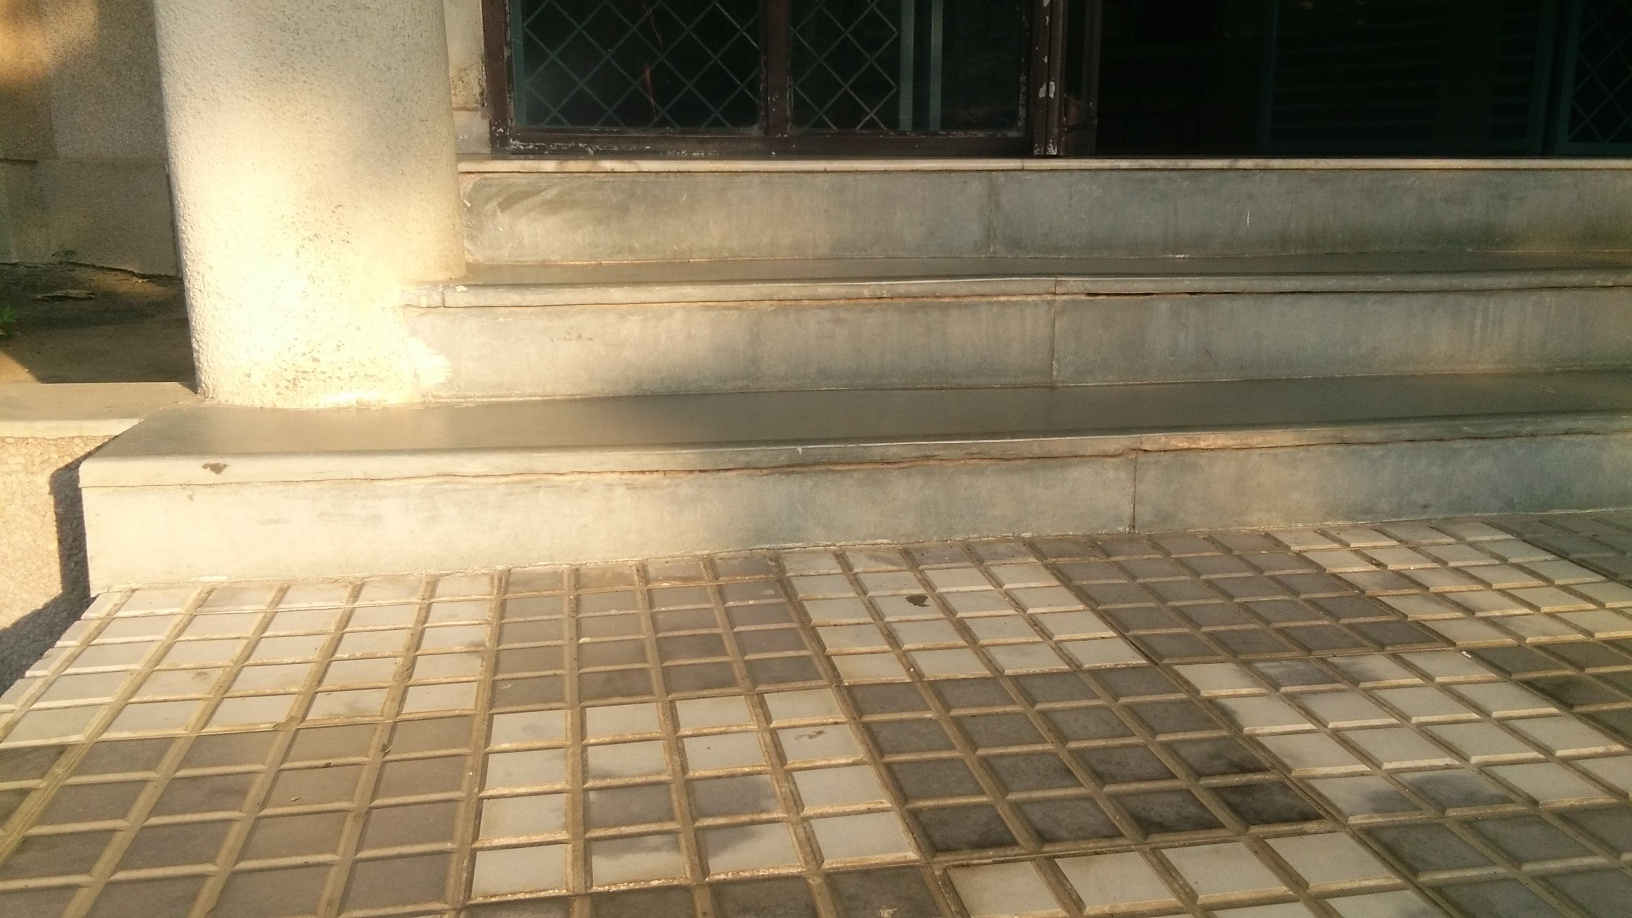stairs_up: (169, 165, 1632, 523)
